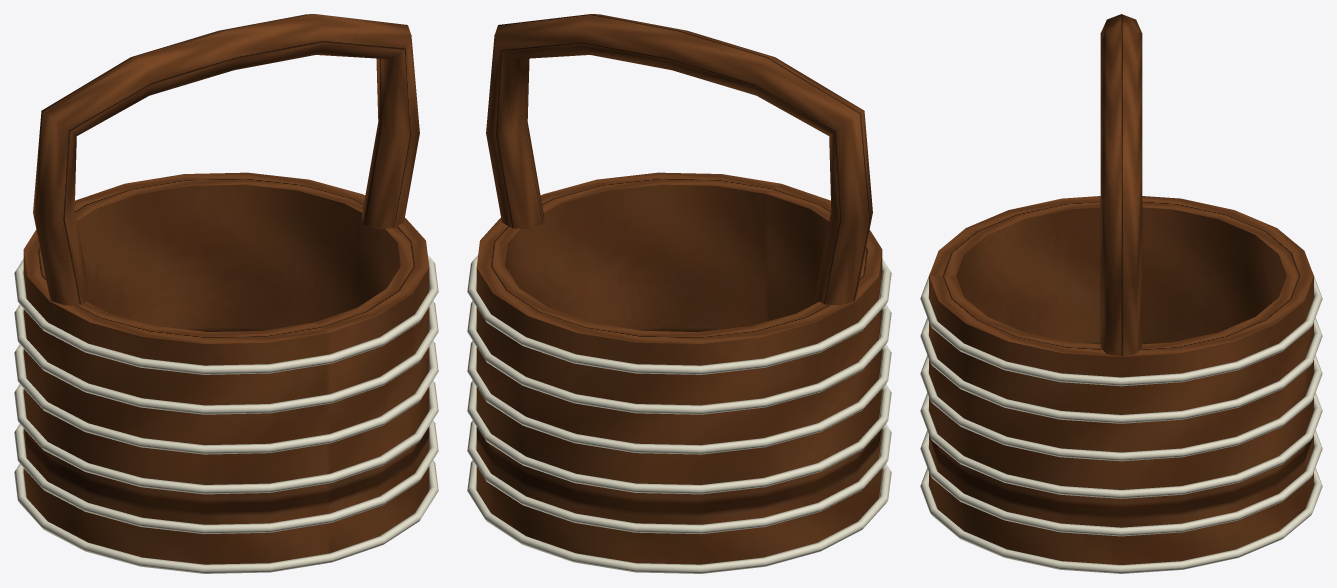
File: scavengers-loot-library-woven-basket-259fb456__2663.glb
The picture shows the model from 3 angles, left to right: view 1: azimuth 30°, elevation 25°; view 2: azimuth 150°, elevation 25°; view 3: azimuth 270°, elevation 25°; orthographic projection. The views are drawn at different scales.
Visible parts, largest first — view 1: woven-basket; view 2: woven-basket; view 3: woven-basket.
Boxes of the visible parts, x1,y1,x2,y2 form: woven-basket: (14,14,438,573); woven-basket: (467,14,891,573); woven-basket: (920,14,1322,573).
Size of the model in its own units: 0.2814 by 0.3203 by 0.272.
Materials: 2 (1 with a texture image).
